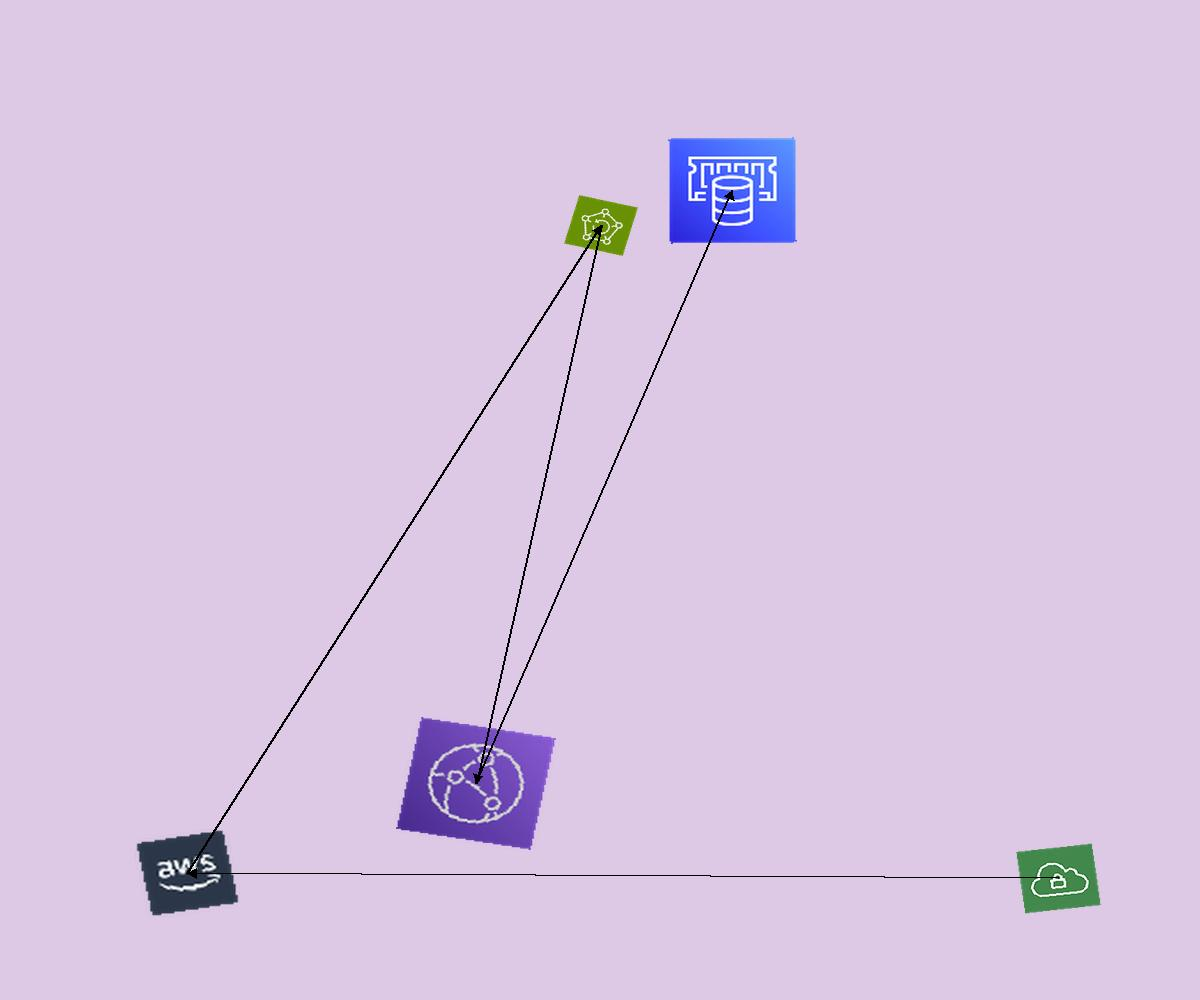AWS-Backup: (564, 195, 638, 256)
AWS-Cloud-logo: (135, 829, 240, 917)
AWS-CloudFront: (396, 717, 556, 850)
AWS-ElastiCache: (668, 137, 797, 244)
AWS-Private_vpc: (1016, 843, 1101, 914)
